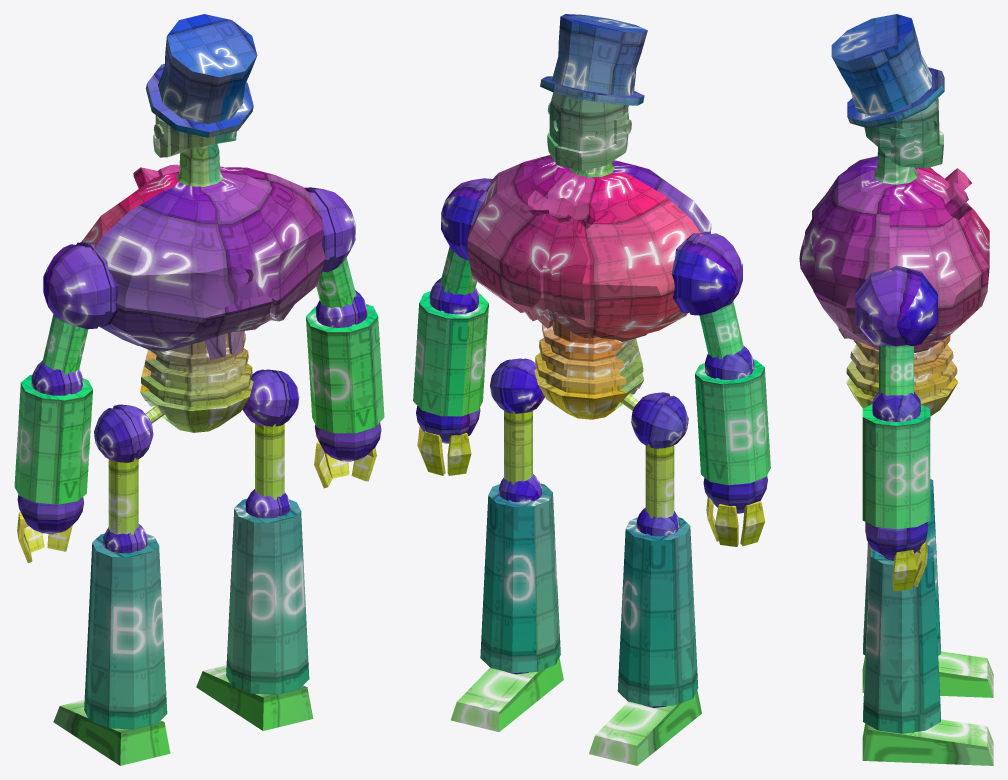
File: Robot Model Rig (Export).fbx
3 views of the same model, side by side, from view 1: azimuth 30°, elevation 25°; view 2: azimuth 150°, elevation 25°; view 3: azimuth 270°, elevation 25° (orthographic). The views are drawn at different scales.
Visible parts, largest first — view 1: Robot_Body, polySurface44, polySurface29, Hat, polySurface38, polySurface22, Left_Shoulder, polySurface52, polySurface37, Head, Left_Hip, Right_Hip (+11 smaller); view 2: Robot_Body, polySurface44, polySurface29, polySurface38, polySurface22, Hat, Head, Left_Shoulder, polySurface52, polySurface37, Left_Hip, Right_Shoulder (+15 smaller); view 3: Robot_Body, polySurface29, Hat, polySurface22, Right_Shoulder, polySurface37, Head, polySurface52, polySurface30, Right_Hand, polySurface44, Right_Elbow (+1 smaller).
Part boxes in pixels (<box>): Robot_Body: <box>81,164,325,432</box>; polySurface44: <box>84,533,167,729</box>; polySurface29: <box>226,499,309,694</box>; Hat: <box>145,14,257,137</box>; polySurface38: <box>14,374,92,504</box>; polySurface22: <box>306,304,384,433</box>; Left_Shoulder: <box>43,242,118,329</box>; polySurface52: <box>53,700,170,765</box>; polySurface37: <box>196,665,313,730</box>; Head: <box>153,115,236,186</box>; Left_Hip: <box>94,404,153,462</box>; Right_Hip: <box>242,369,299,426</box>; Robot_Body: <box>467,155,711,419</box>; polySurface44: <box>617,517,698,706</box>; polySurface29: <box>480,483,560,672</box>; polySurface38: <box>695,359,770,485</box>; polySurface22: <box>413,291,488,416</box>; Hat: <box>540,14,647,105</box>; Head: <box>547,92,631,177</box>; Left_Shoulder: <box>671,231,742,315</box>; polySurface52: <box>589,690,701,765</box>; polySurface37: <box>451,657,563,731</box>; Left_Hip: <box>631,392,688,448</box>; Right_Shoulder: <box>441,178,492,260</box>; Robot_Body: <box>799,156,989,416</box>; polySurface29: <box>863,544,940,733</box>; Hat: <box>831,14,944,128</box>; polySurface22: <box>862,404,930,529</box>; Right_Shoulder: <box>855,265,937,346</box>; polySurface37: <box>862,719,993,765</box>; Head: <box>864,98,943,184</box>; polySurface52: <box>862,651,993,697</box>; polySurface30: <box>879,345,913,395</box>; Right_Hand: <box>865,522,927,558</box>; polySurface44: <box>863,479,940,655</box>; Right_Elbow: <box>872,392,920,421</box>.
Size of the model in its own units: 3.99 by 7.54 by 1.91.
Materials: 6 (6 with a texture image).
